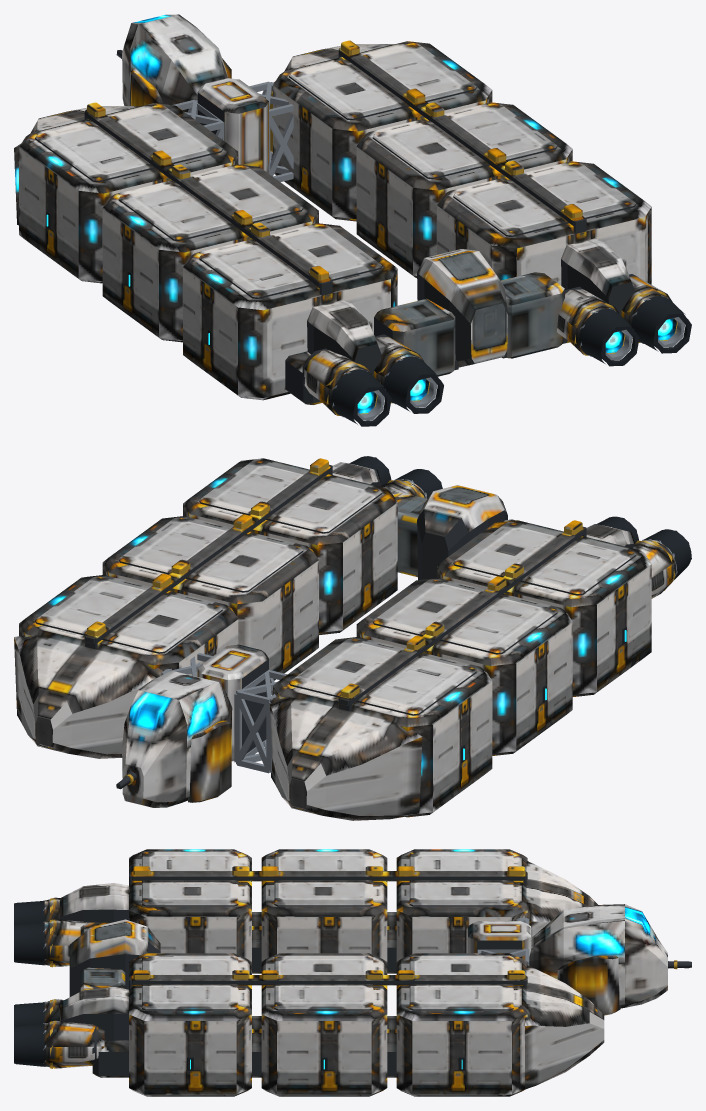
File: large-freighter-lod2.glb
3 views of the same model, one above another, from view 1: azimuth 30°, elevation 25°; view 2: azimuth 150°, elevation 25°; view 3: azimuth 270°, elevation 25° (orthographic). The views are drawn at different scales.
Visible parts, largest first — view 1: Static / Reference artwork | titanium, brass, panels and can, Static / Structural frames | gunmetal, Static / Structural rails | dark alloy, Static / Machined titanium edges, Static / Warm brass collars, Static / Ventral armor | dedicated bottom-view reference; view 2: Static / Reference artwork | titanium, brass, panels and can, Static / Structural frames | gunmetal, Static / Machined titanium edges, Static / Structural rails | dark alloy, Static / Ventral armor | dedicated bottom-view reference, Static / Warm brass collars; view 3: Static / Reference artwork | titanium, brass, panels and can, Static / Structural frames | gunmetal, Static / Structural rails | dark alloy, Static / Ventral armor | dedicated bottom-view reference, Static / Warm brass collars, Static / Machined titanium edges.
Boxes of the visible parts, x1,y1,x2,y2 form: Static / Reference artwork | titanium, brass, panels and can: (14,14,676,413); Static / Structural frames | gunmetal: (35,49,638,403); Static / Structural rails | dark alloy: (46,211,691,426); Static / Machined titanium edges: (172,81,685,420); Static / Warm brass collars: (87,44,677,415); Static / Ventral armor | dedicated bottom-view reference: (23,110,639,415); Static / Reference artwork | titanium, brass, panels and can: (14,458,675,815); Static / Structural frames | gunmetal: (35,464,636,789); Static / Machined titanium edges: (160,479,677,773); Static / Structural rails | dark alloy: (349,456,691,763); Static / Ventral armor | dedicated bottom-view reference: (28,524,671,820); Static / Warm brass collars: (87,462,675,784); Static / Reference artwork | titanium, brass, panels and can: (44,849,667,1094); Static / Structural frames | gunmetal: (60,871,691,1075); Static / Structural rails | dark alloy: (14,901,465,1070); Static / Ventral armor | dedicated bottom-view reference: (44,880,667,1096); Static / Warm brass collars: (50,870,677,1068); Static / Machined titanium edges: (43,900,529,1066).
Bounding box in the file's own units: 9.41 × 2.9 × 15.75.
7 materials, 2 textured.
